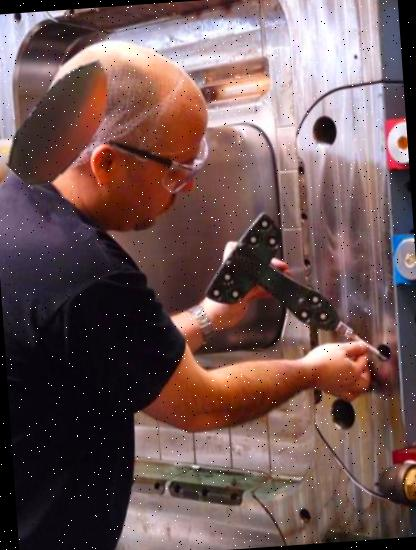Hazelnut: (0, 46, 141, 198)
